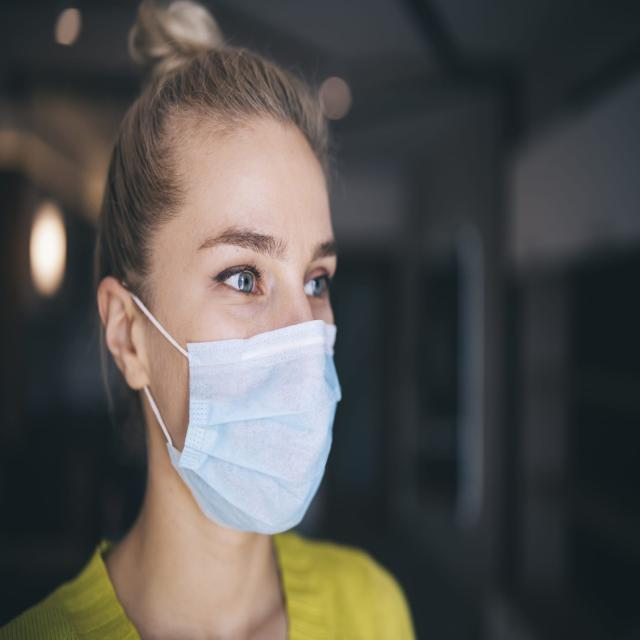1_mascarilla: (138, 318, 342, 536)
